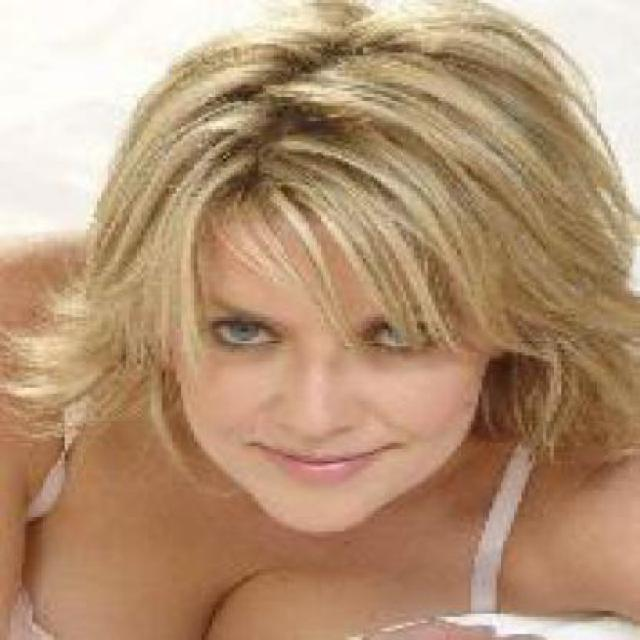closed-mouth: (244, 431, 408, 487)
